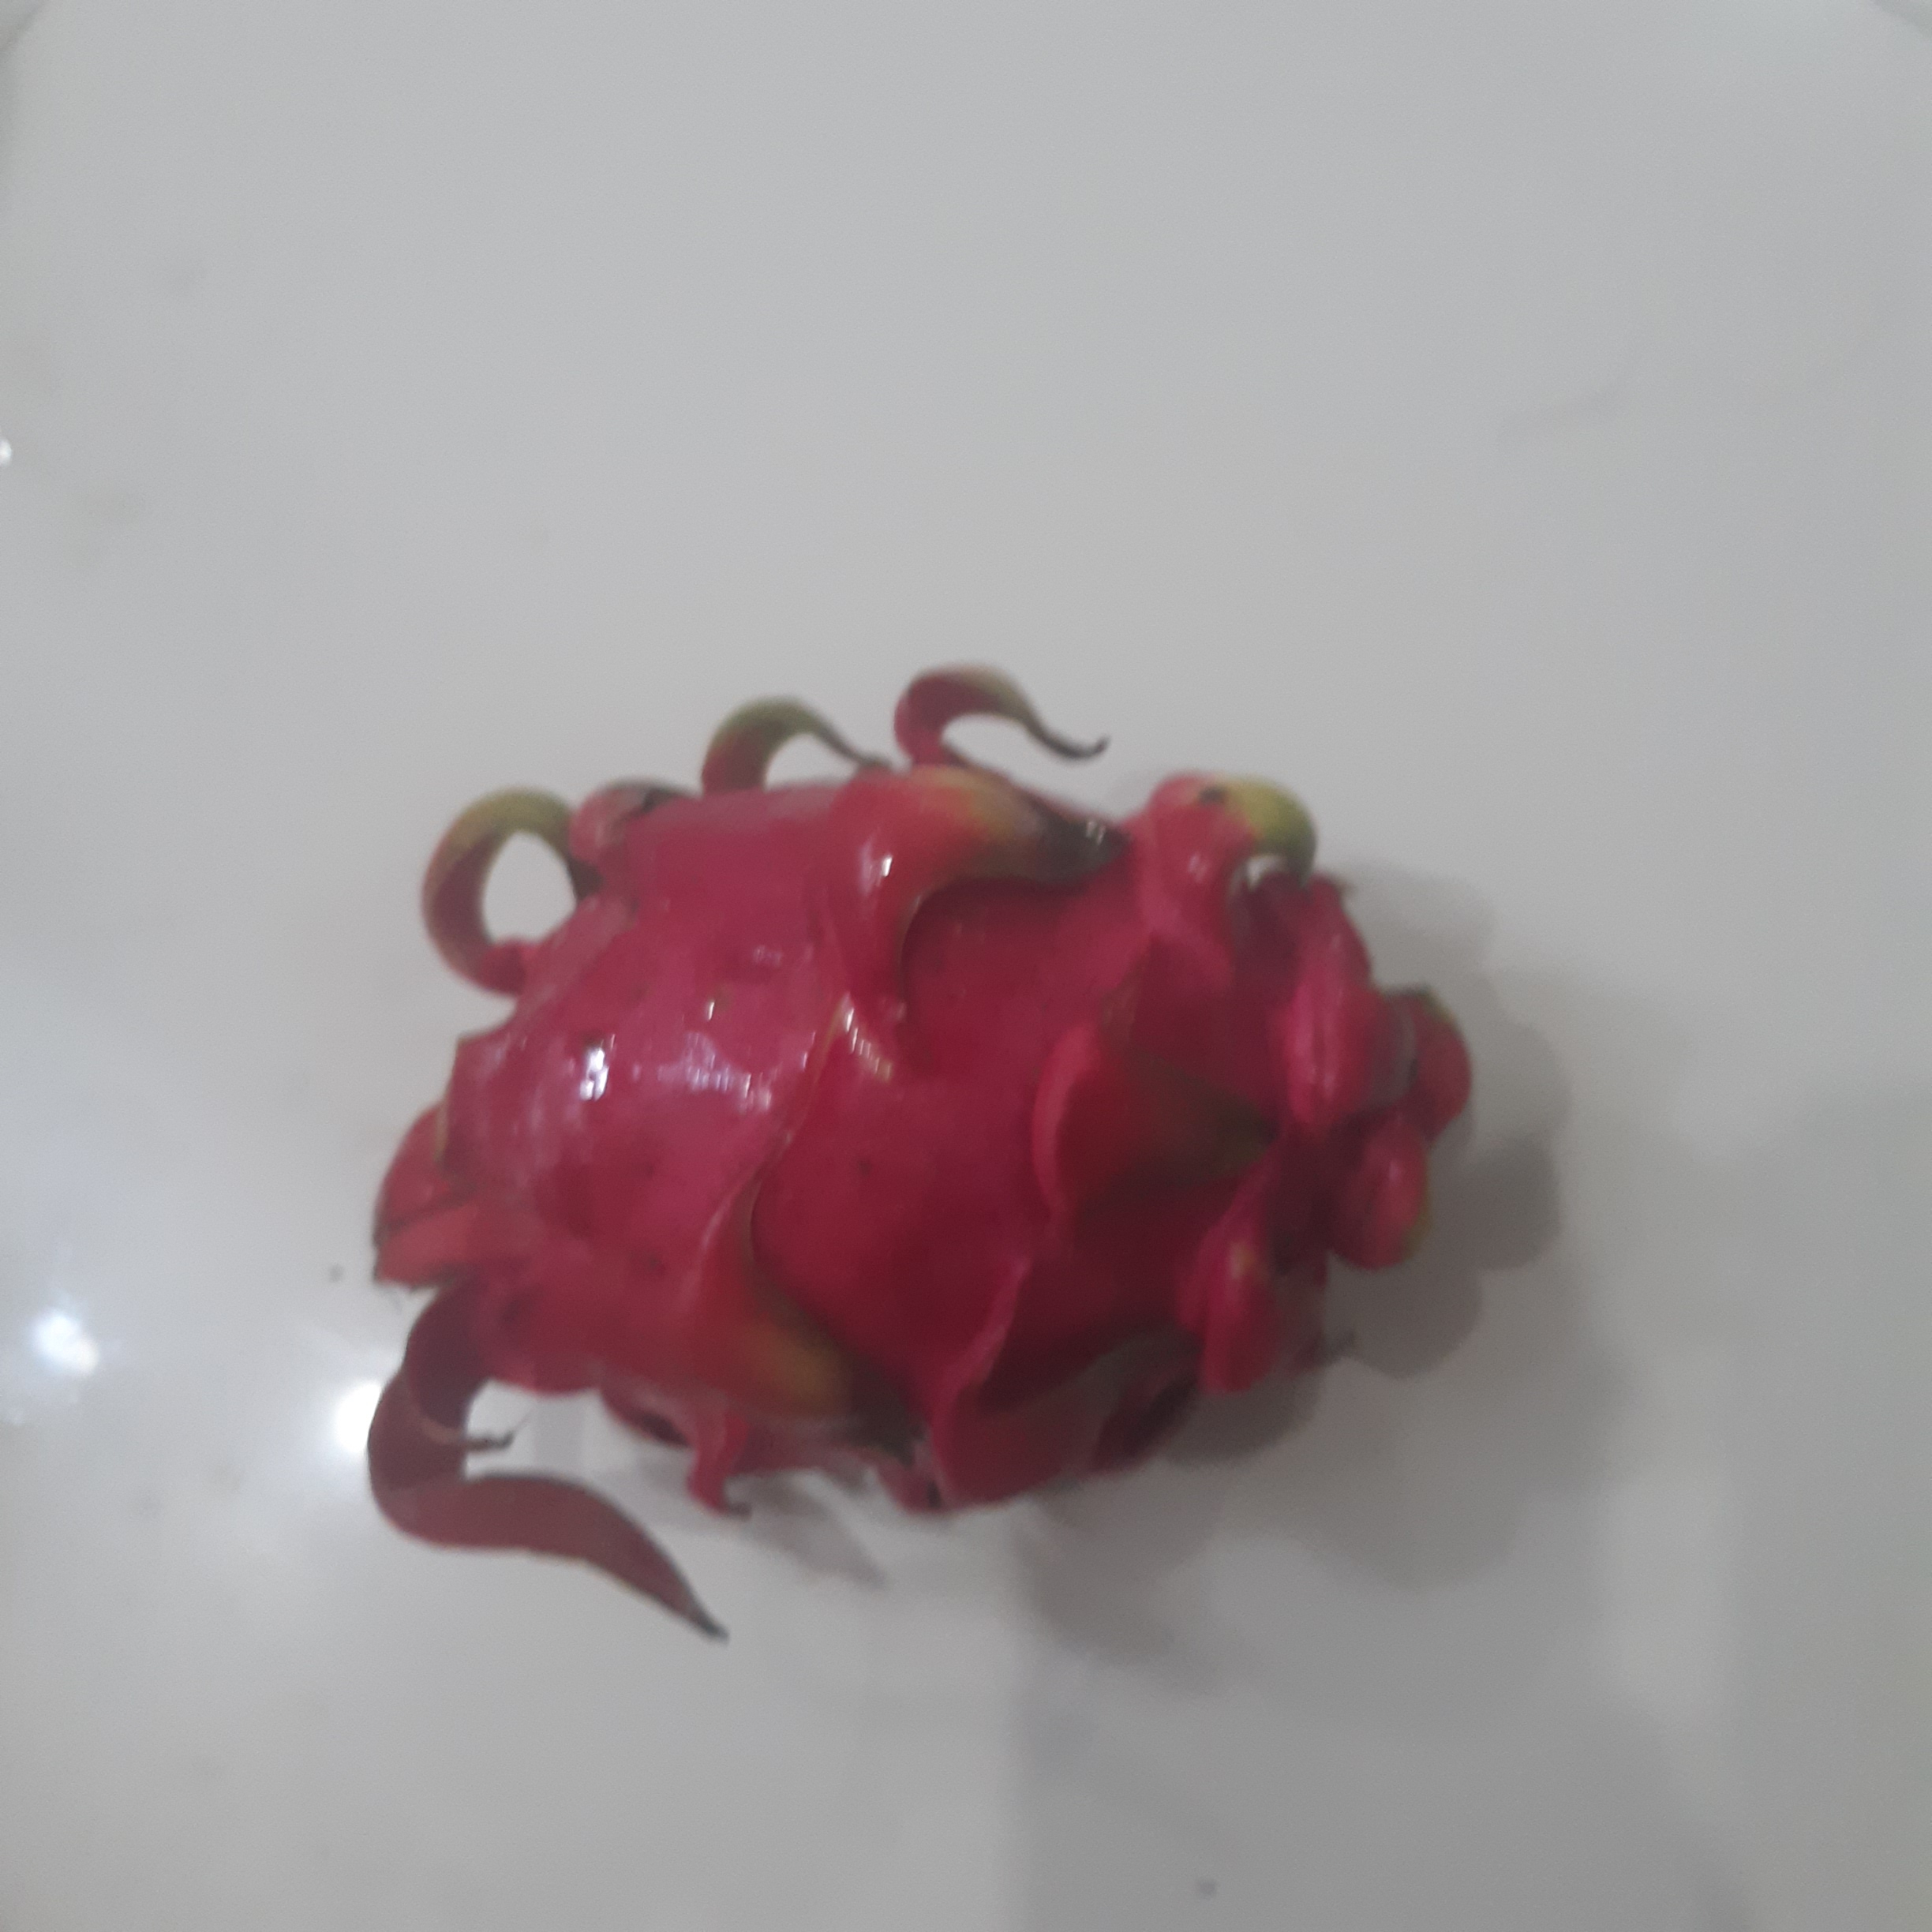Thanh long: (370, 766, 1451, 1484)
